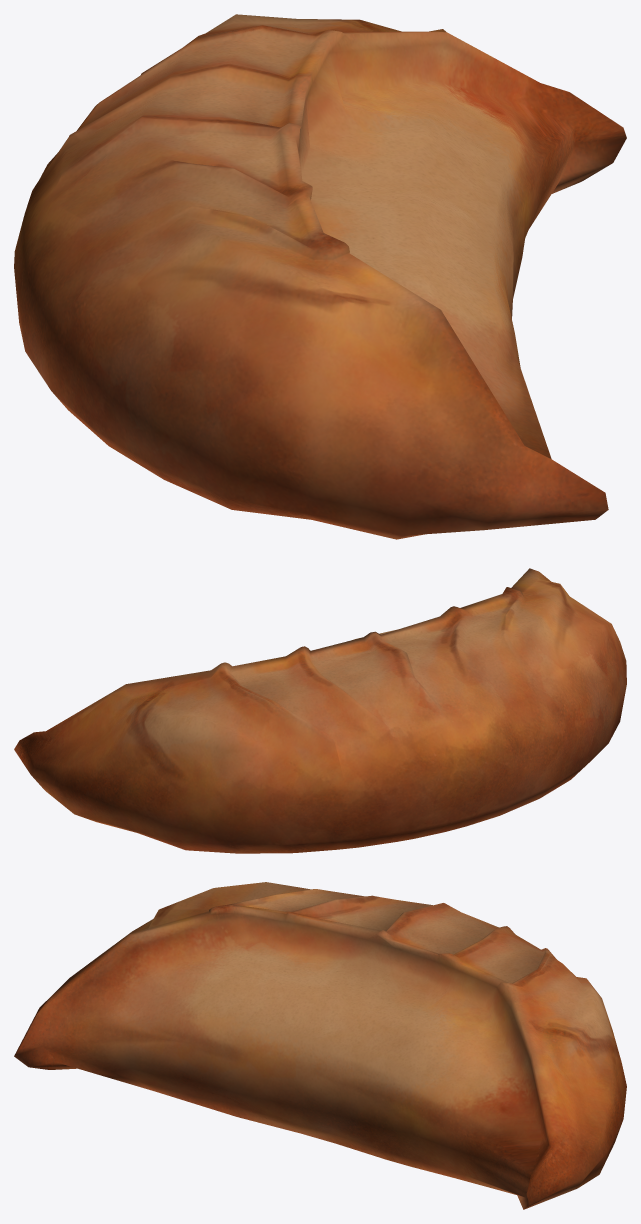
The model's file is fry_momo.glb.
The picture shows the model from 3 angles, top to bottom: view 1: azimuth 30°, elevation 25°; view 2: azimuth 150°, elevation 25°; view 3: azimuth 270°, elevation 25°; orthographic projection. The views are drawn at different scales.
Bounding box in the file's own units: 0.2602 × 0.0926 × 0.3004.
Materials: 1 (1 with a texture image).
